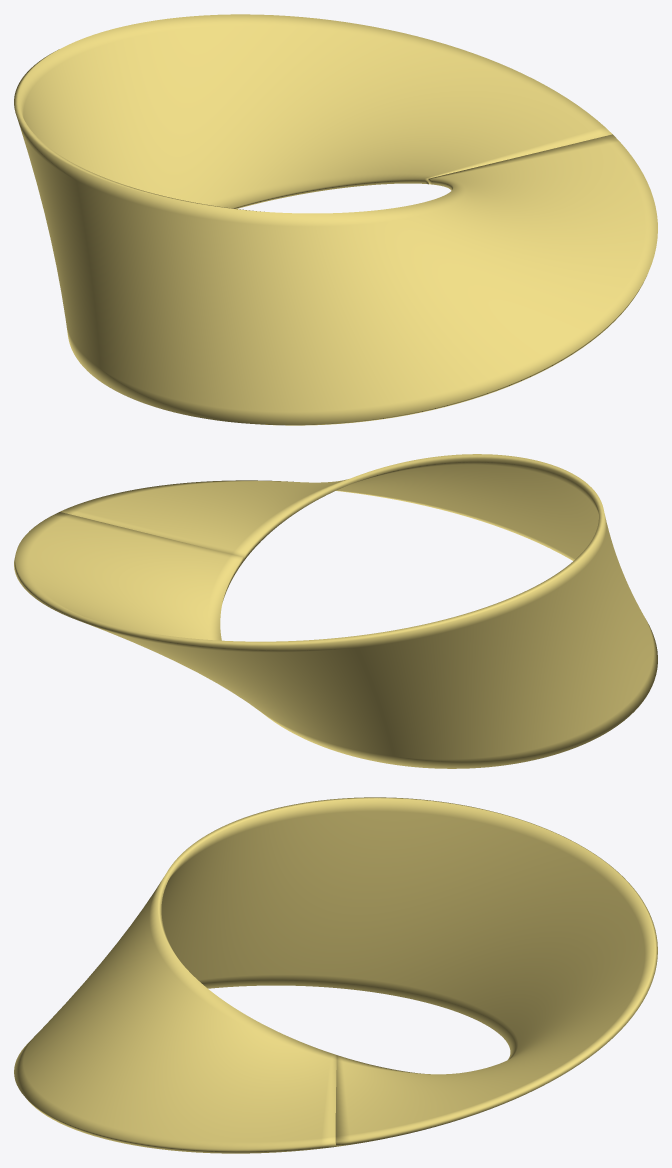
Rendered from hero_mobius.gltf.
3 renders of one model, top to bottom at view 1: azimuth 30°, elevation 25°; view 2: azimuth 150°, elevation 25°; view 3: azimuth 270°, elevation 25°, orthographic. The views are drawn at different scales.
Parts seen in each view (by area): view 1: Mobius; view 2: Mobius; view 3: Mobius.
Boxes of the visible parts, left/top/right/bottom form: Mobius: left=14, top=14, right=657, bottom=425; Mobius: left=14, top=454, right=657, bottom=768; Mobius: left=14, top=797, right=657, bottom=1153.
Size of the model in its own units: 2.45 by 0.8403 by 2.62.
